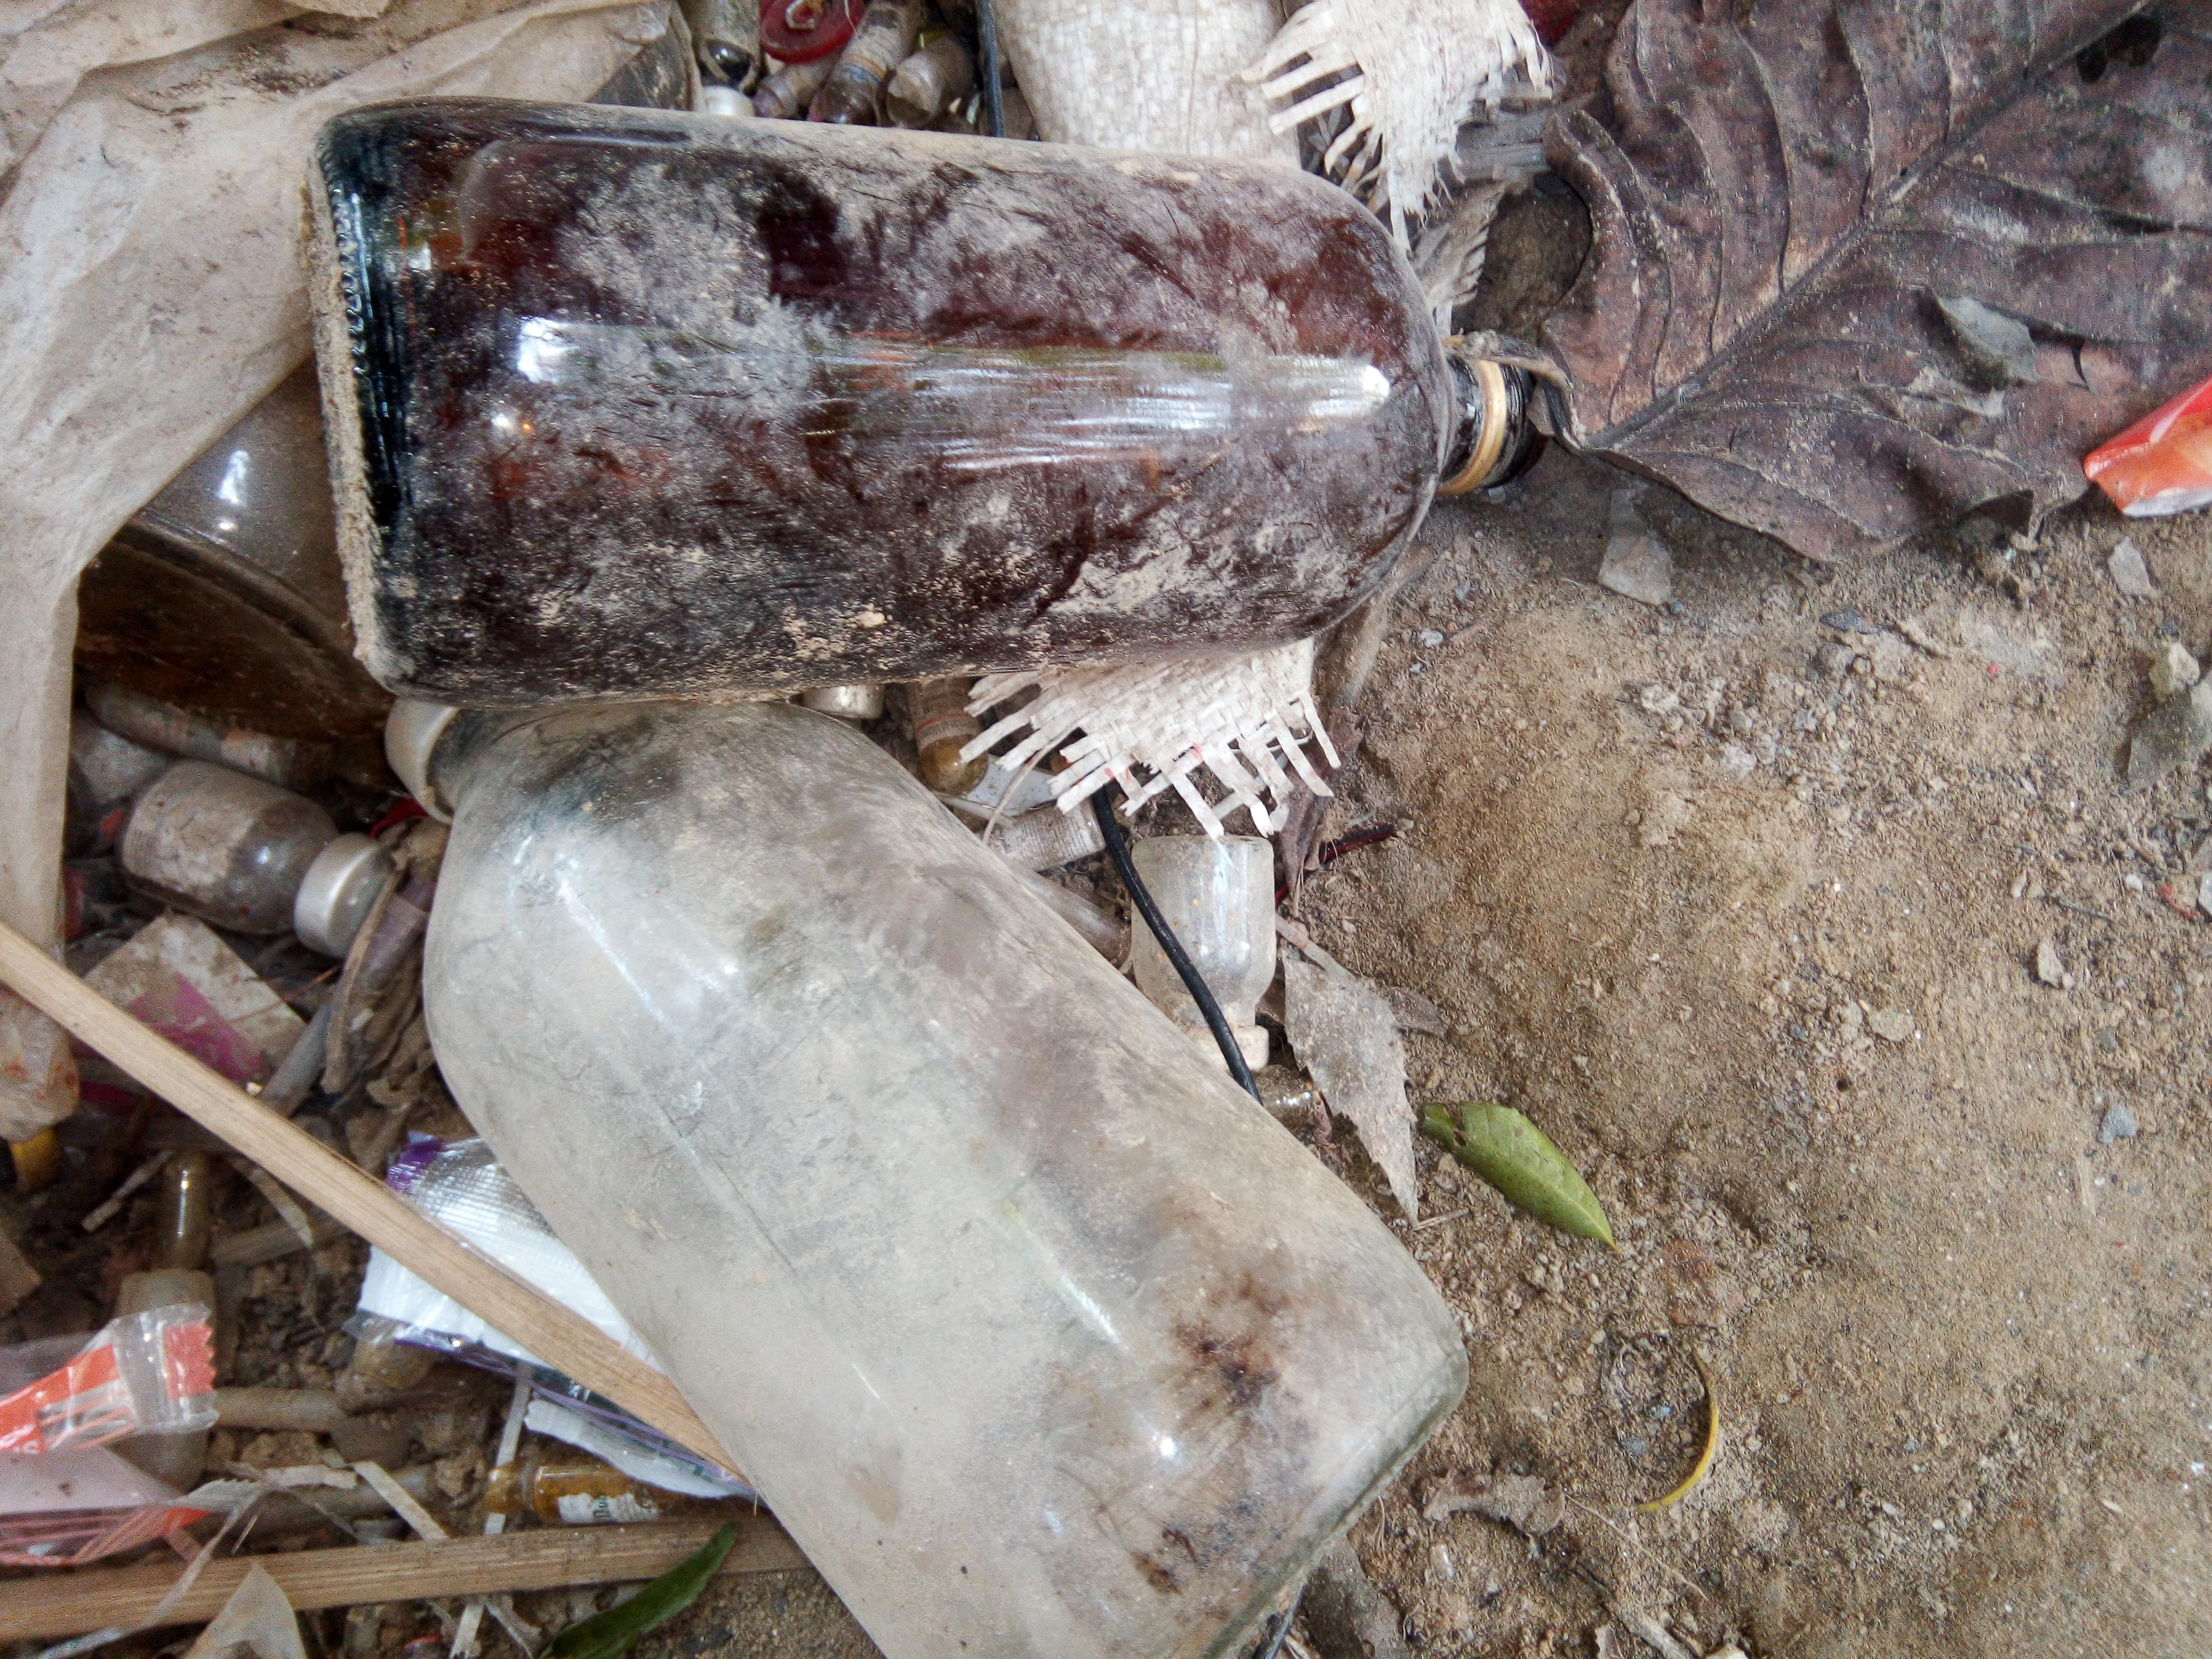trash: (0, 75, 1595, 1553)
